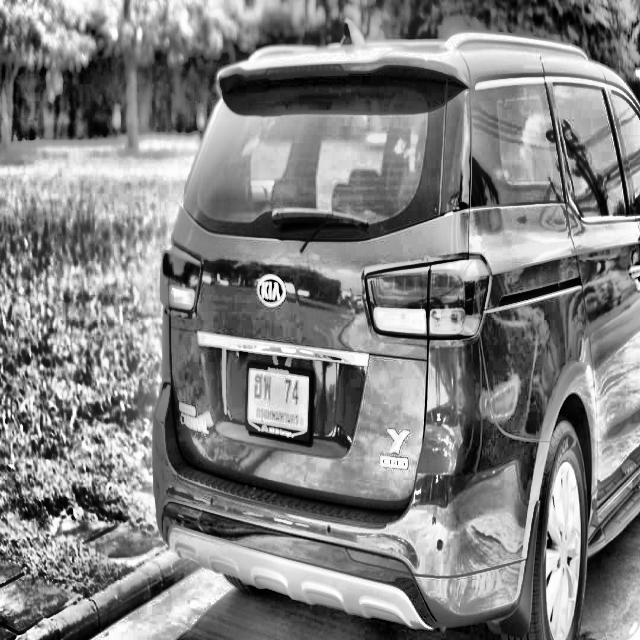license-plate: (246, 358, 313, 446)
